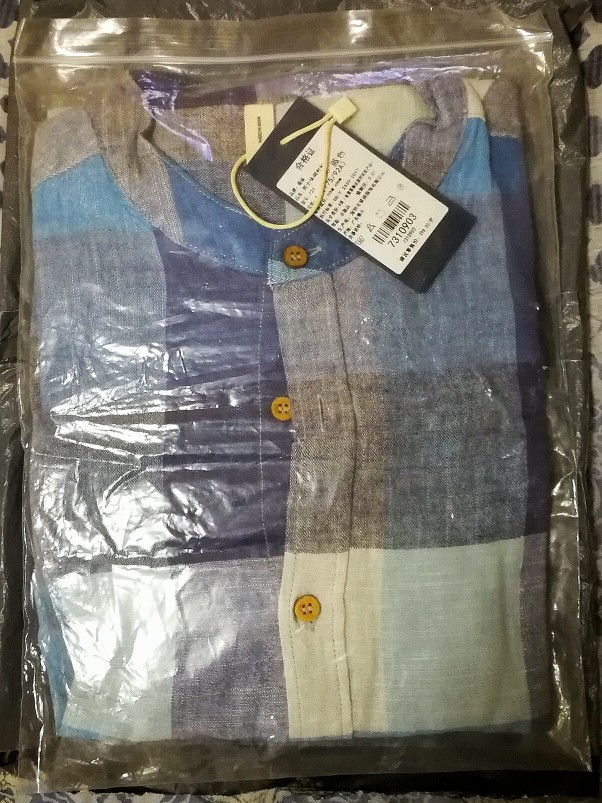shirts: (33, 79, 546, 750)
